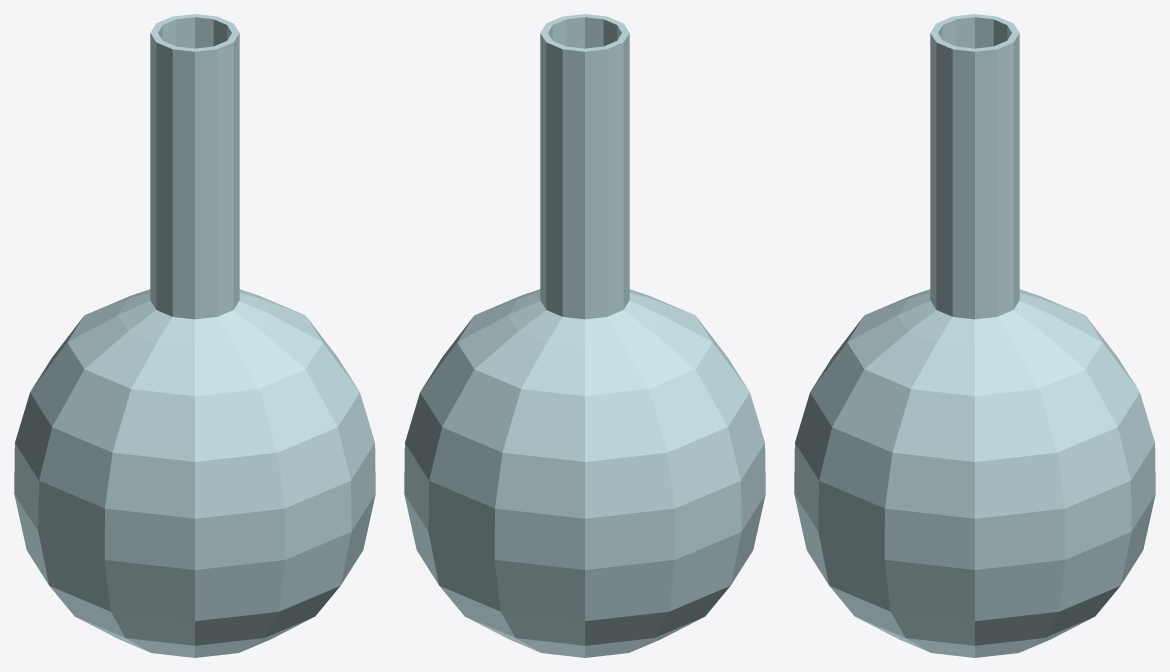
The model's file is Becker.2.fbx.
3 views of the same model, side by side, from view 1: azimuth 30°, elevation 25°; view 2: azimuth 150°, elevation 25°; view 3: azimuth 270°, elevation 25° (orthographic).
Visible parts, largest first — view 1: Becker.2; view 2: Becker.2; view 3: Becker.2.
Boxes of the visible parts, x1,y1,x2,y2 form: Becker.2: (14, 14, 375, 657); Becker.2: (404, 14, 765, 657); Becker.2: (794, 14, 1155, 657).
Size of the model in its own units: 20.78 by 37.3 by 20.78.
